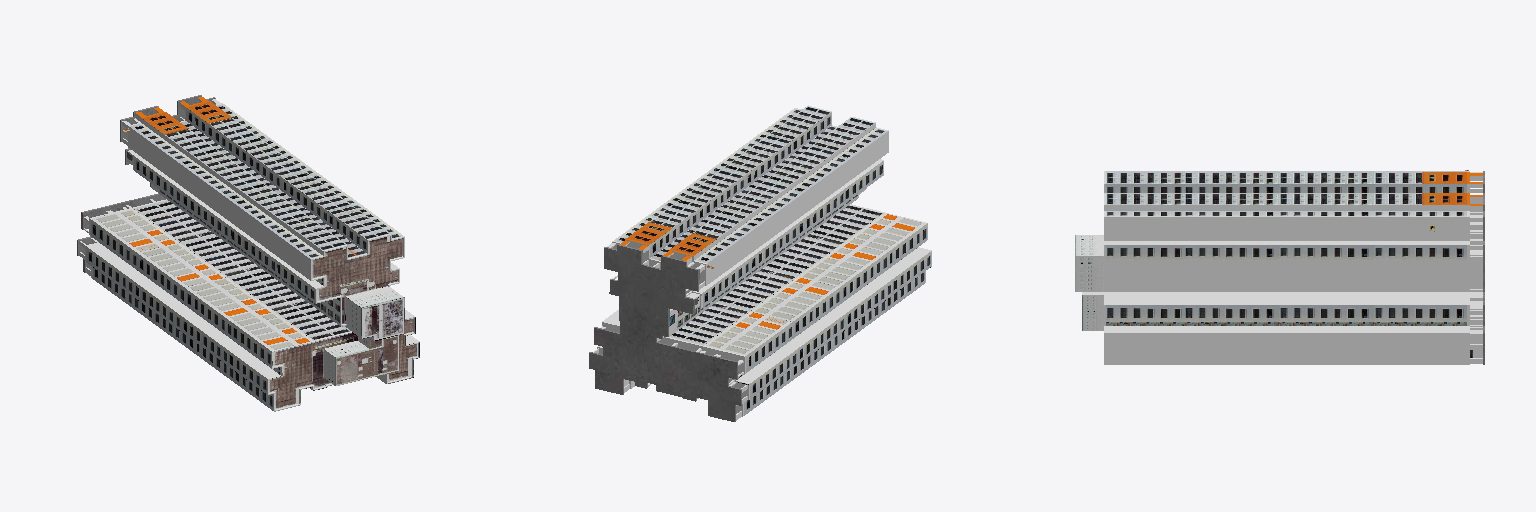
The picture shows the model from 3 angles: view 1: azimuth 30°, elevation 25°; view 2: azimuth 150°, elevation 25°; view 3: azimuth 270°, elevation 25°; orthographic projection.
Parts seen in each view (by area): view 1: polygon.841; view 2: polygon.841; view 3: polygon.841.
Part boxes in pixels (x1,y1,x2,y2): polygon.841: (77,95,419,411); polygon.841: (589,105,931,421); polygon.841: (1075,170,1484,364).
Bounding box in the file's own units: 37.55 × 35.14 × 87.91.
1 materials, 1 textured.